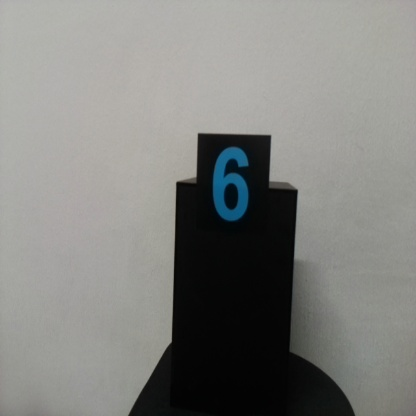id_6: (196, 134, 271, 247)
